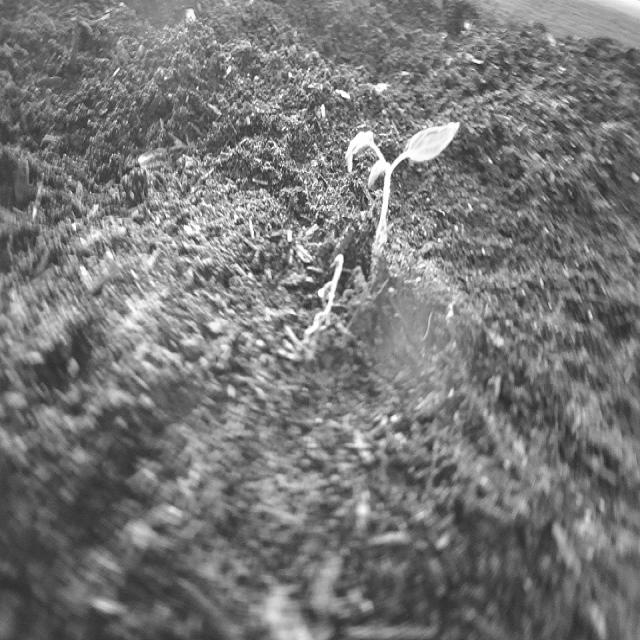Unhealthy: (342, 106, 462, 272), (295, 247, 369, 367)
